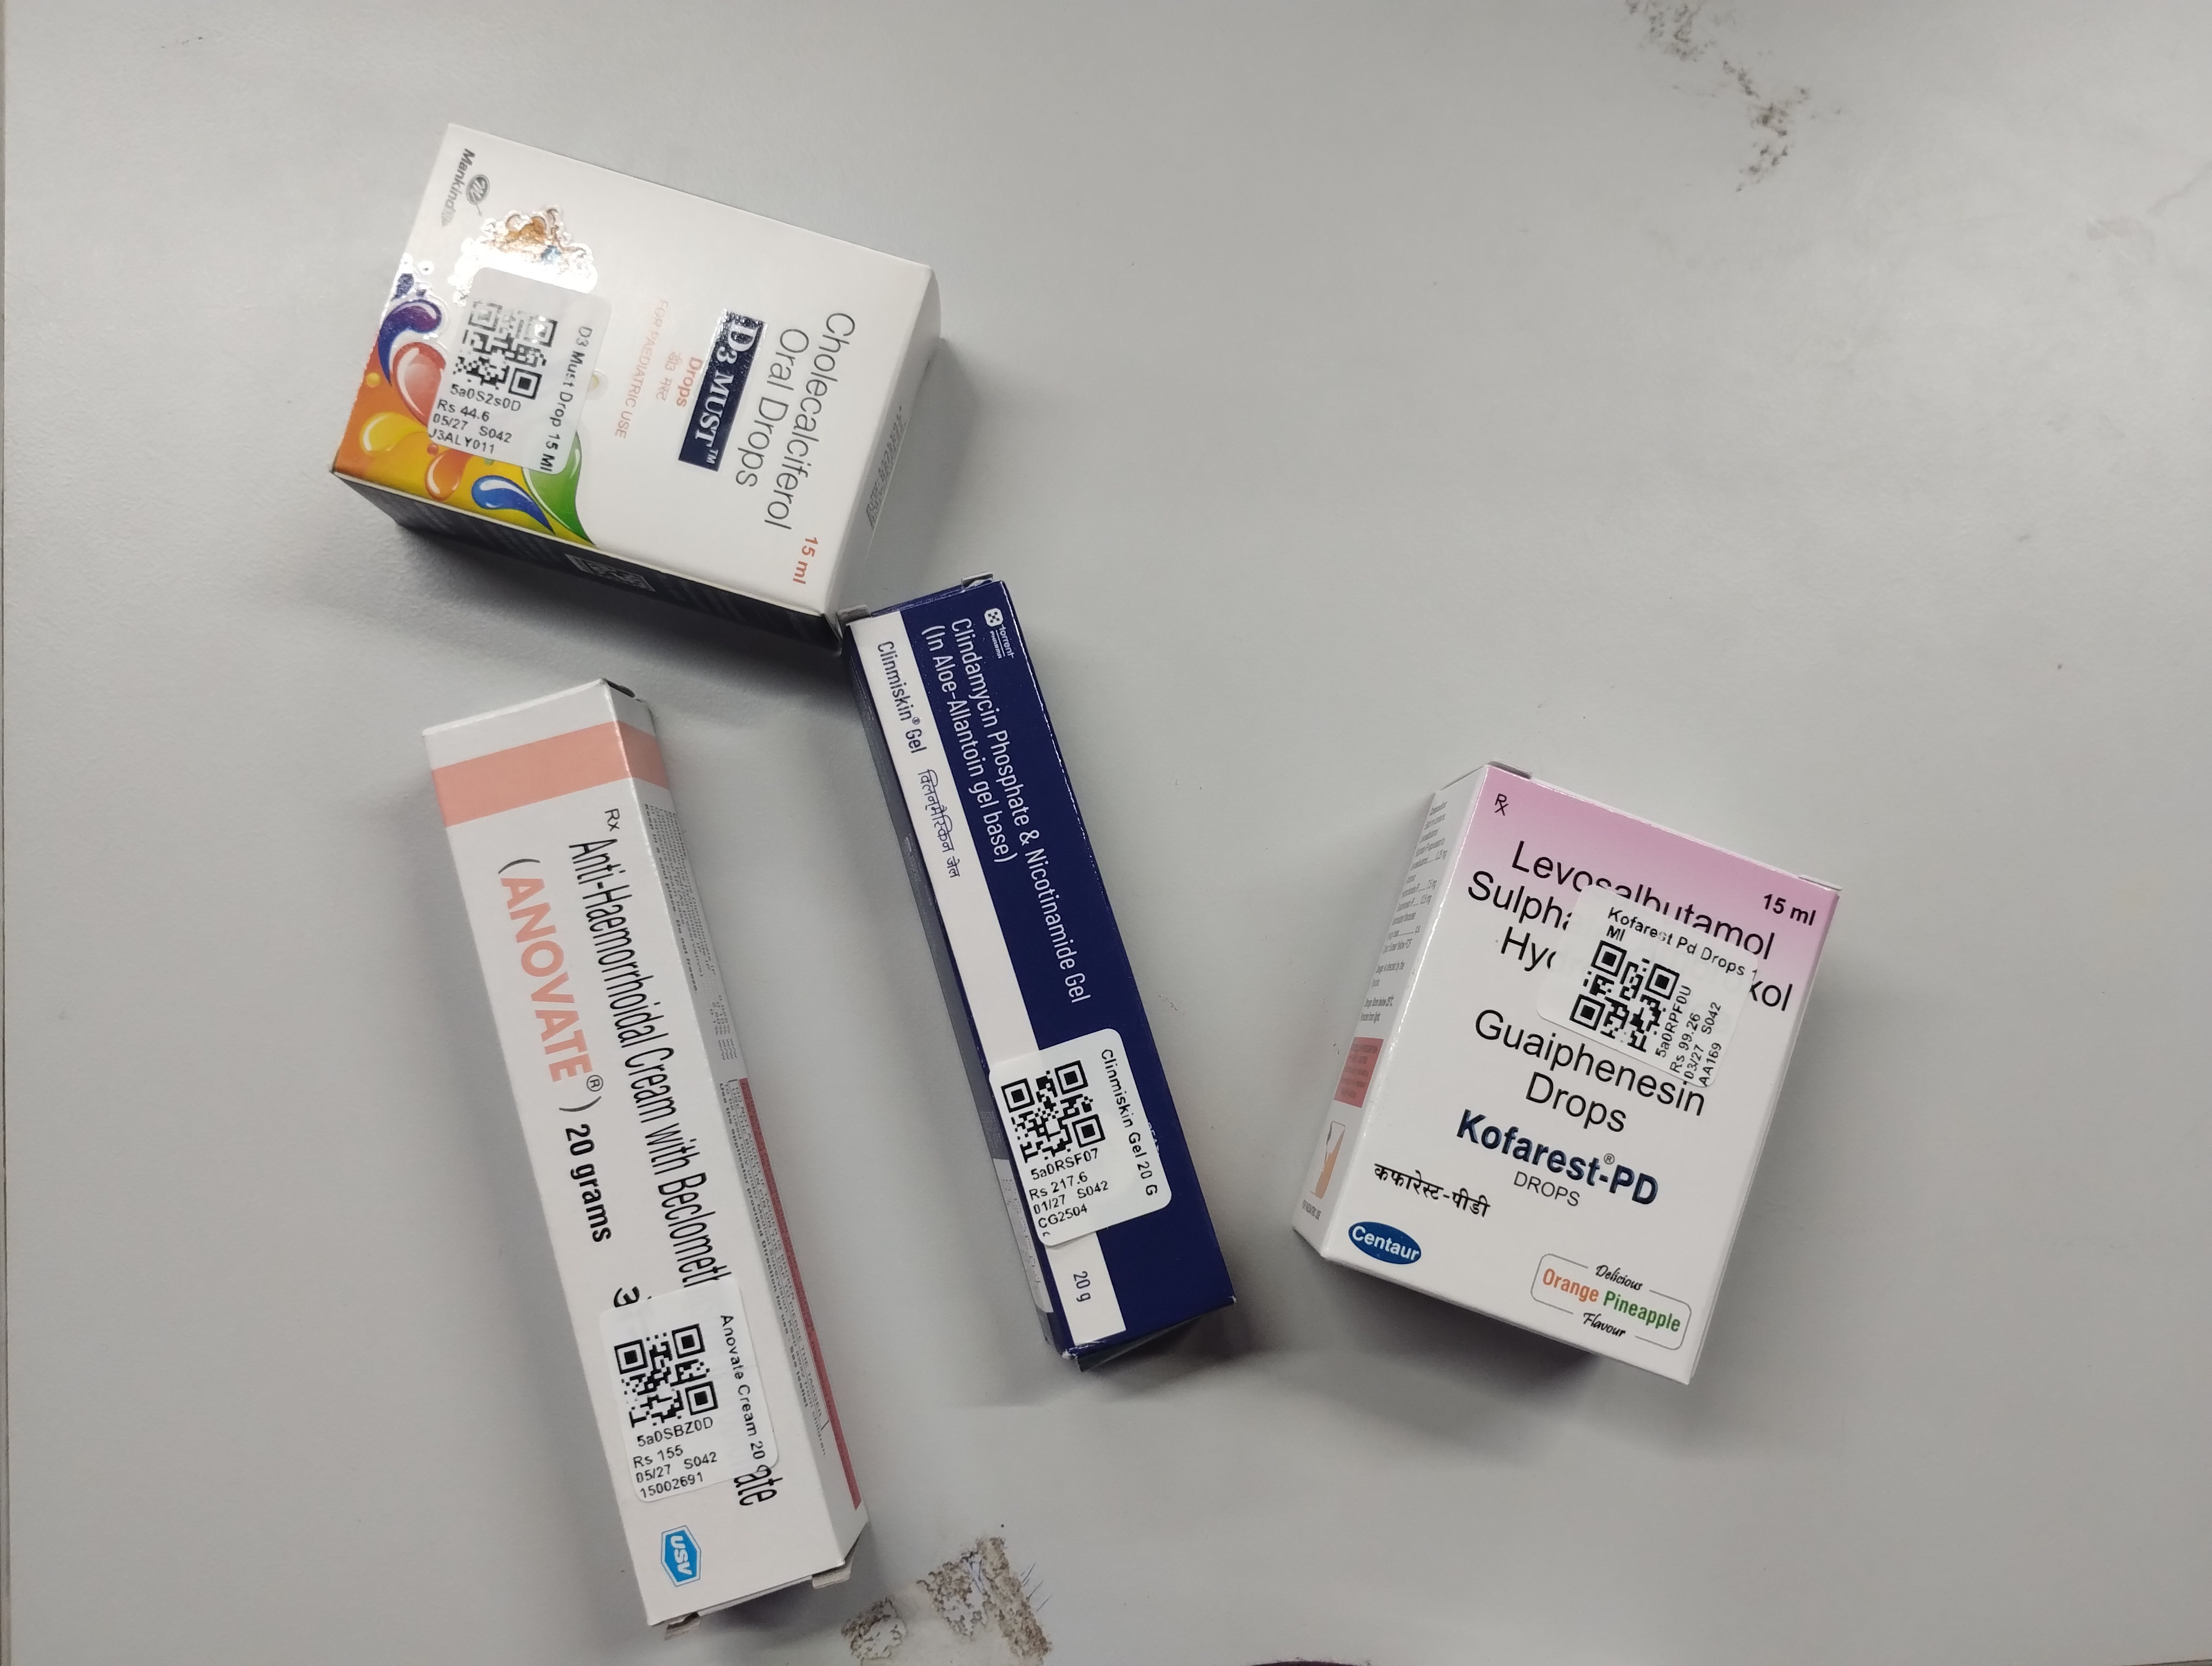QR: (614, 1267, 719, 1377)
